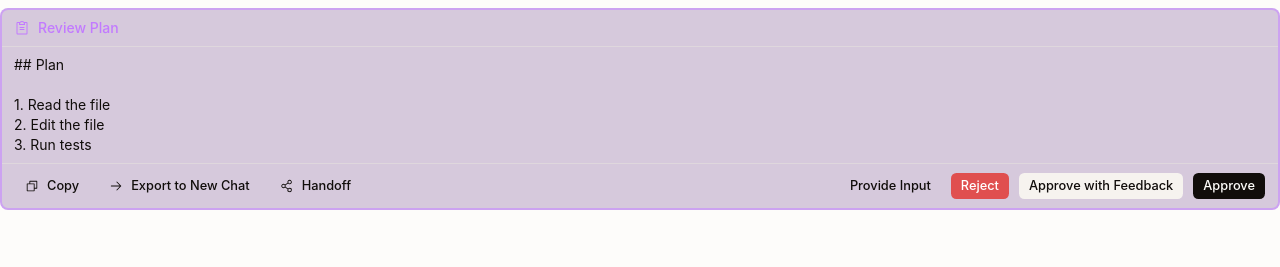
Test: PlanView › Reject with feedback › shows feedback input after clicking reject
Click the button "Reject".
click(980, 186)  # box [950,172,1010,200]
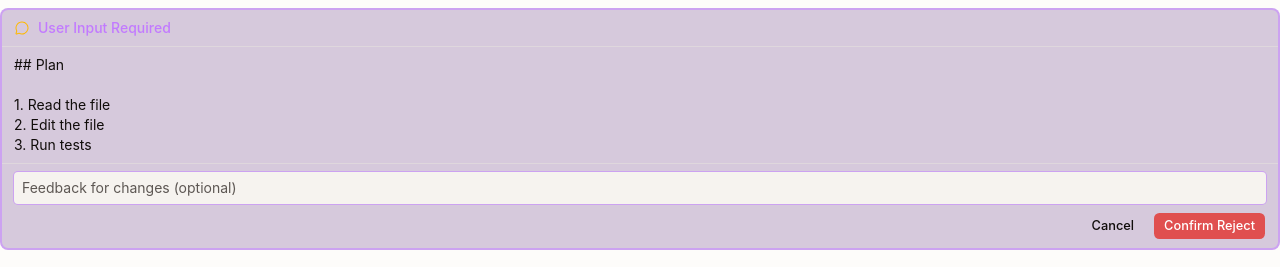
expect the field with placeholder "Feedback for changes (optional)" is shown: met, box [14,172,1266,204]
